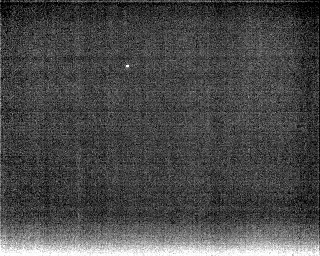BIRD: (124, 62, 131, 70)
